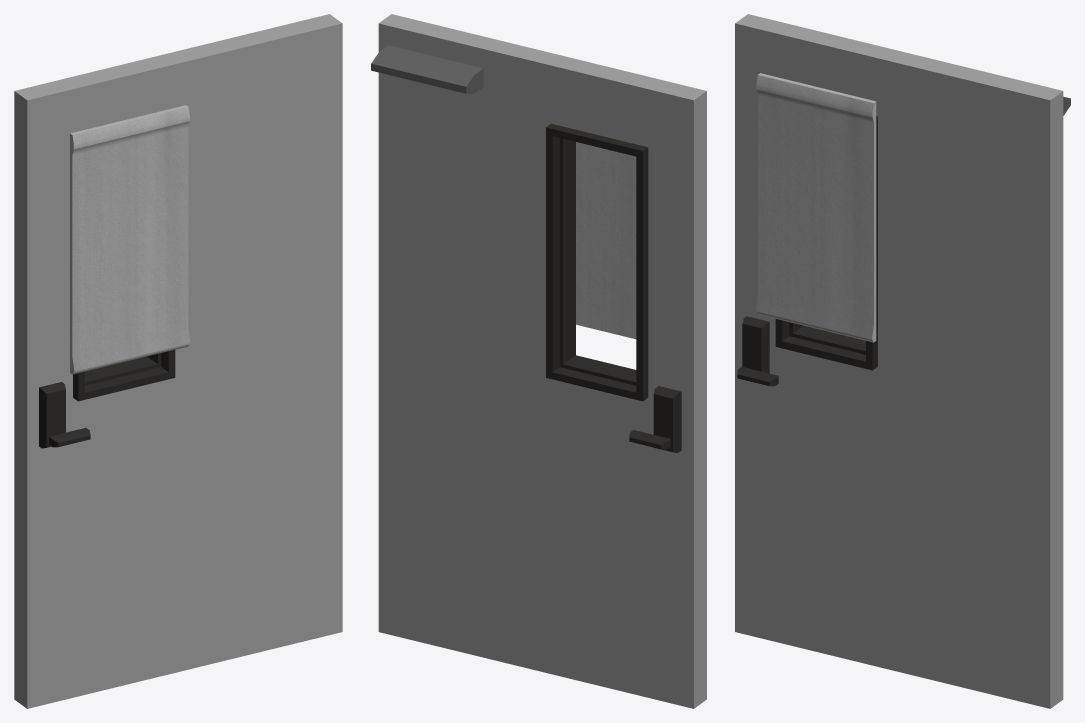
File: GYM_Door_White_1.fbx
3 views of the same model, side by side, from view 1: azimuth 30°, elevation 25°; view 2: azimuth 150°, elevation 25°; view 3: azimuth 330°, elevation 25° (orthographic).
Parts seen in each view (by area): view 1: GYM_VPS_Door; view 2: GYM_VPS_Door; view 3: GYM_VPS_Door.
Part boxes in pixels (bbox=[...]): GYM_VPS_Door: bbox=[14, 14, 342, 708]; GYM_VPS_Door: bbox=[371, 14, 706, 708]; GYM_VPS_Door: bbox=[735, 14, 1070, 708].
Bounding box in the file's own units: 1.58 × 2.91 × 0.3997.
4 materials, 1 textured.
